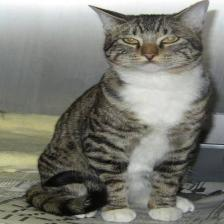cat: (83, 3, 224, 75)
